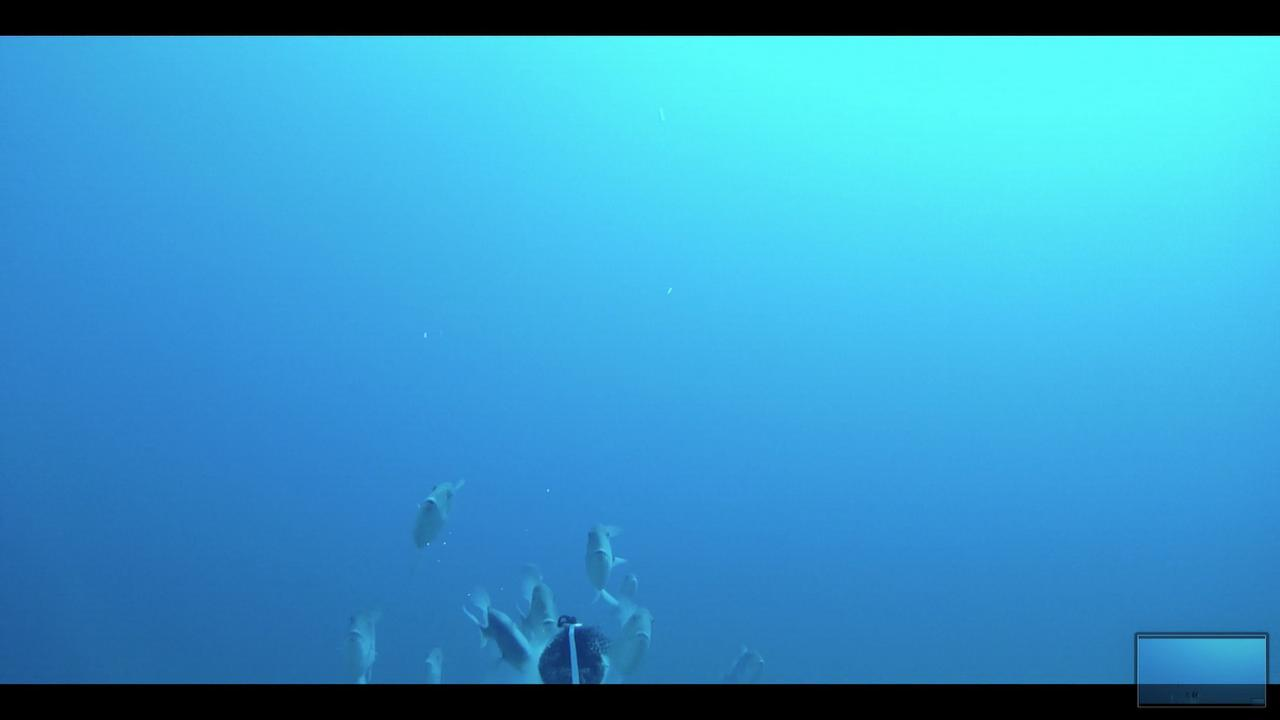balistes: (459, 586, 540, 678), (578, 512, 628, 607), (335, 594, 385, 685), (409, 474, 466, 553), (605, 598, 659, 680), (514, 562, 561, 650), (721, 636, 767, 682), (421, 643, 444, 684)
